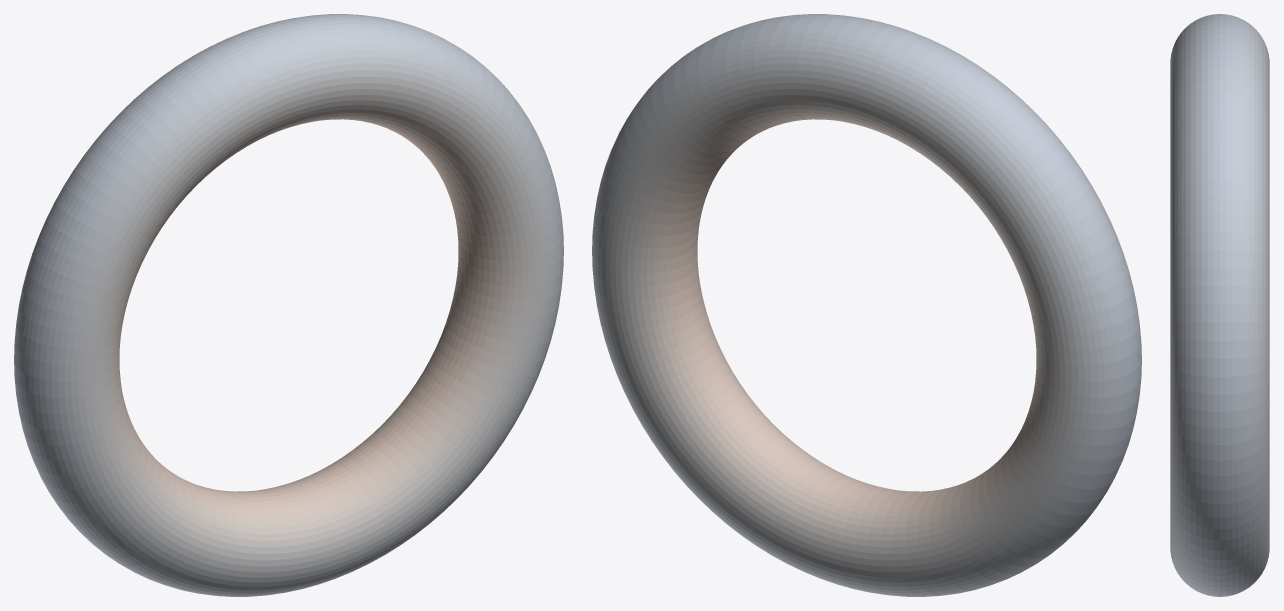
3 renders of one model, left to right at view 1: azimuth 30°, elevation 25°; view 2: azimuth 150°, elevation 25°; view 3: azimuth 270°, elevation 25°, orthographic. The views are drawn at different scales.
Visible parts, largest first — view 1: world; view 2: world; view 3: world.
Part boxes in pixels (bbox=[...]): world: bbox=[14, 14, 563, 596]; world: bbox=[592, 14, 1141, 596]; world: bbox=[1170, 14, 1269, 596].
Bounding box in the file's own units: 28.93 × 28.93 × 4.92.
